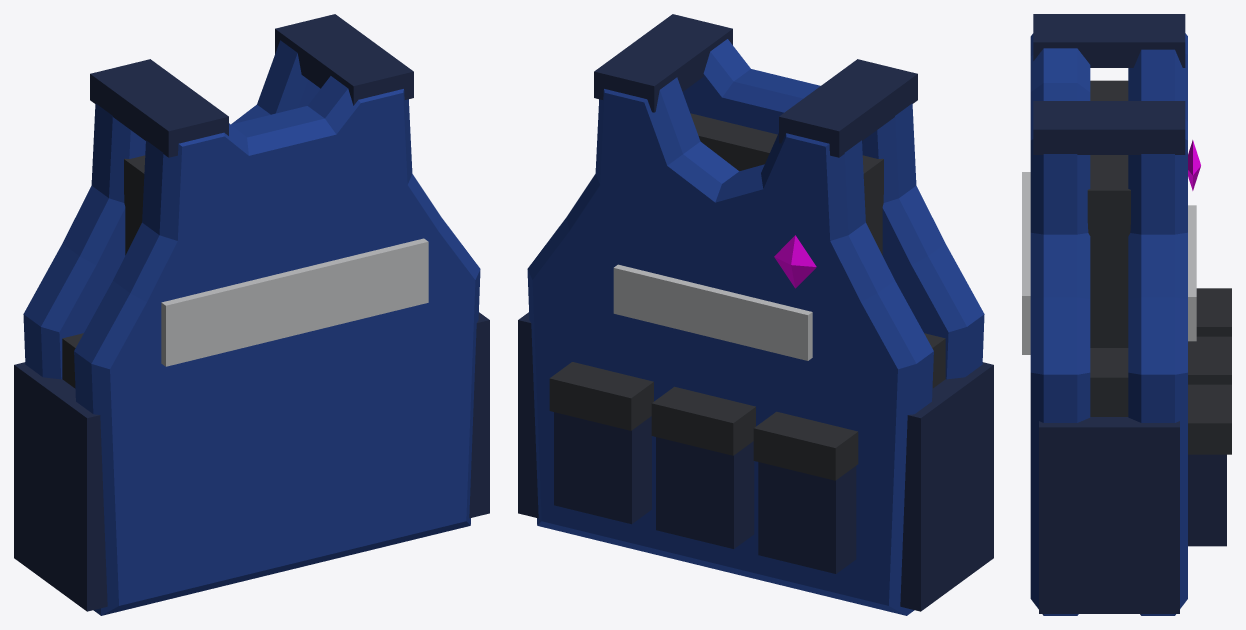
File: pickup_armor.glb
The picture shows the model from 3 angles, left to right: view 1: azimuth 30°, elevation 25°; view 2: azimuth 150°, elevation 25°; view 3: azimuth 270°, elevation 25°; orthographic projection. The views are drawn at different scales.
Visible parts, largest first — view 1: pickup_armor__body; view 2: pickup_armor__body; view 3: pickup_armor__body.
Part boxes in pixels (x1,y1,x2,y2): pickup_armor__body: (14, 14, 489, 615); pickup_armor__body: (518, 14, 993, 615); pickup_armor__body: (1022, 14, 1231, 615).
Size of the model in its own units: 0.414 by 0.465 by 0.1935.
1 material, 1 textured.
